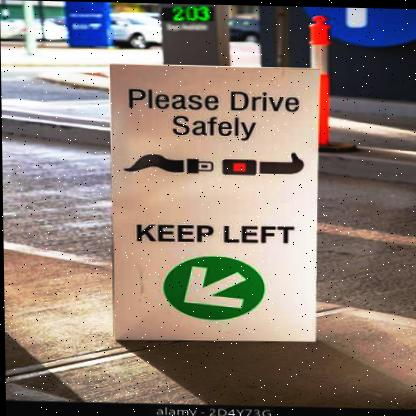Keep left: (153, 248, 275, 328)
